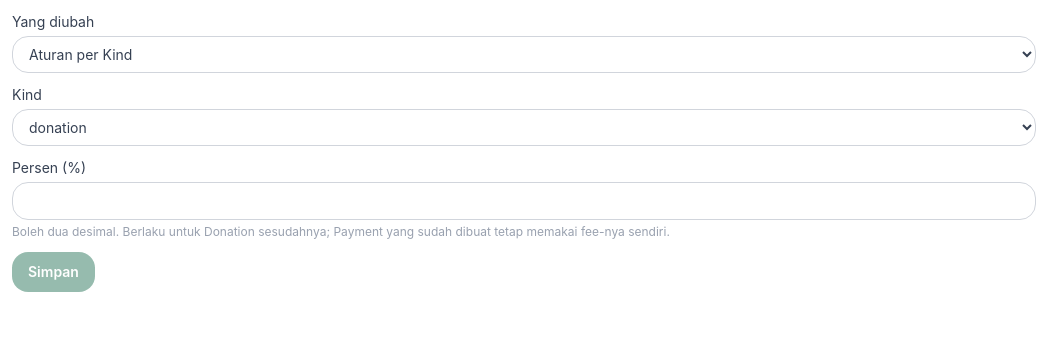
Test: AdminPlatformFeeForm › posts a KIND rule with the typed percent converted to basis points
The image size is (1048, 339).
Select "Aturan per Kind" in the dropdown labelled "Yang diubah" at (524, 54), box [12, 36, 1036, 73]
Select "wakaf" in the dropdown labelled "Kind" at (524, 128), box [12, 109, 1036, 146]
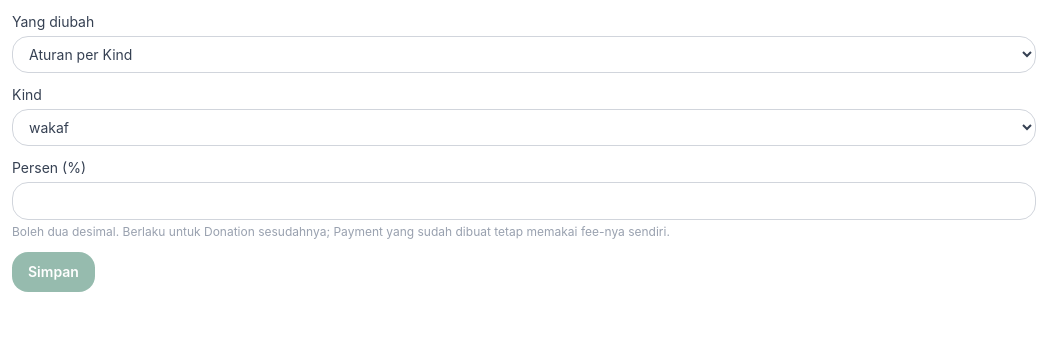
Type "2,5" into the field labelled "Persen" at (524, 201), box [12, 182, 1036, 220]
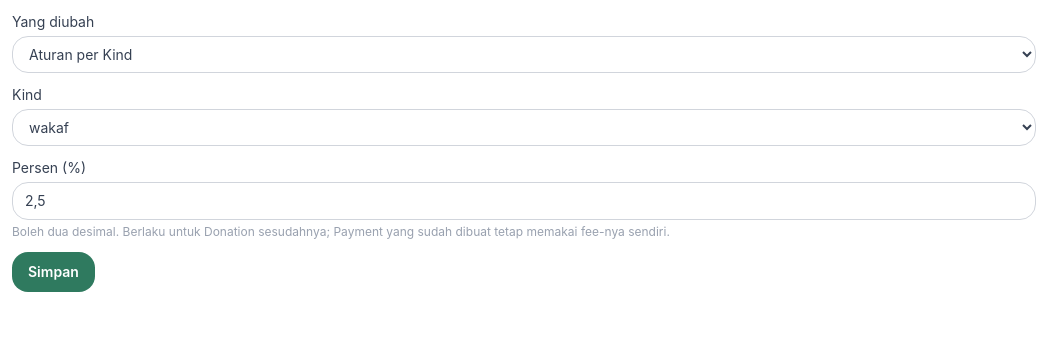
Click the button "Simpan" at (53, 272), box [12, 252, 95, 292]
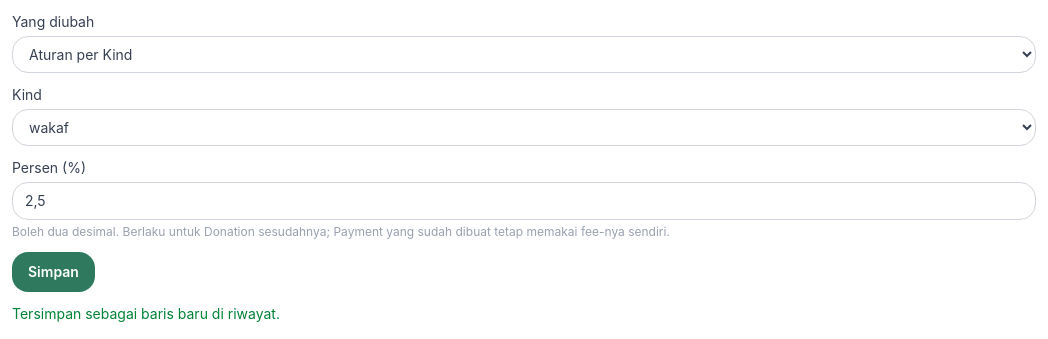
Check: the message "Tersimpan sebagai baris baru di riwayat." is shown, box [12, 305, 280, 322]
